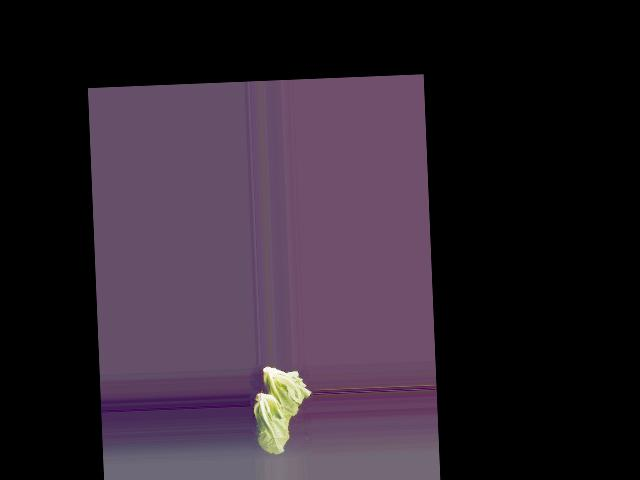lettuce: (256, 365, 311, 428)
